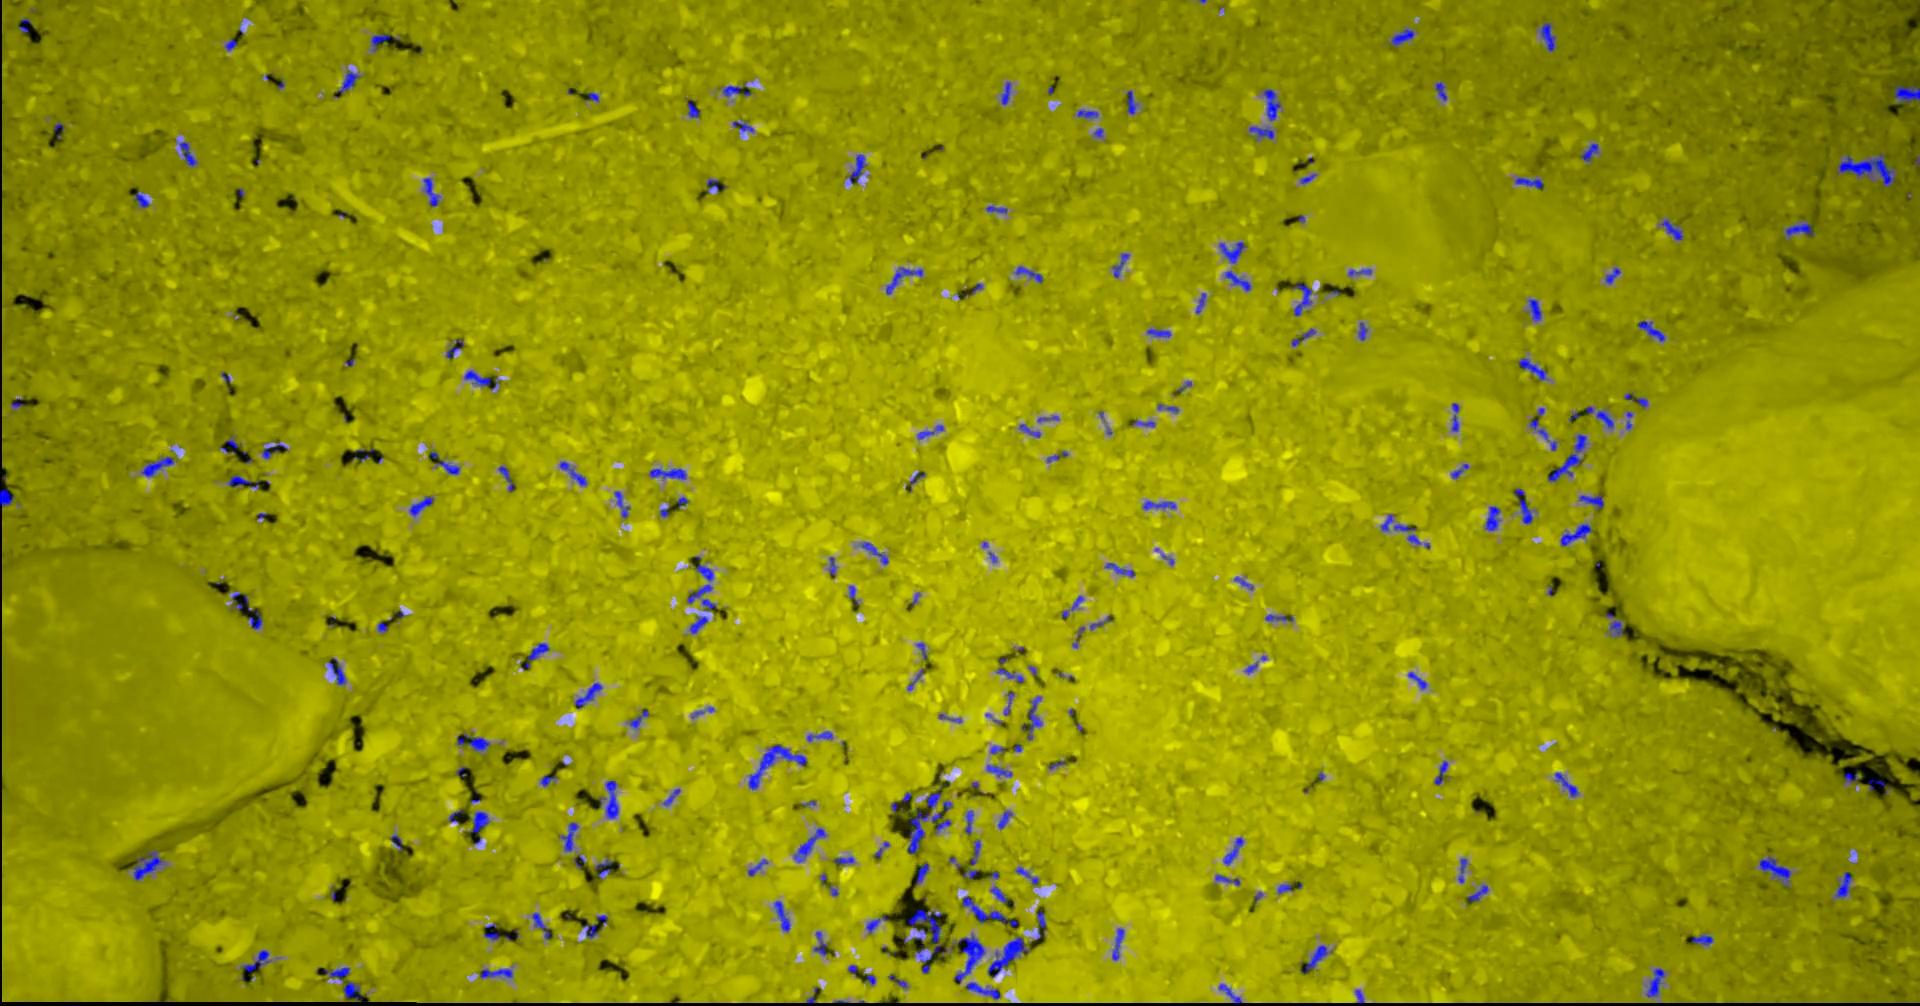ant: (748, 744, 806, 789), (907, 808, 950, 854), (1837, 152, 1895, 187), (1547, 433, 1586, 481), (907, 908, 946, 955), (961, 895, 1017, 926), (987, 936, 1029, 977), (952, 934, 984, 982), (323, 967, 363, 1001), (687, 564, 716, 610), (792, 828, 825, 862), (232, 592, 262, 627), (1759, 855, 1790, 887), (885, 267, 922, 293), (132, 848, 163, 879), (1300, 944, 1331, 973), (1021, 696, 1041, 739), (1393, 523, 1429, 547), (598, 780, 618, 818), (333, 69, 359, 97), (912, 937, 932, 973), (1559, 523, 1592, 545), (522, 641, 549, 668), (996, 657, 1023, 682), (574, 682, 602, 708), (429, 450, 458, 474), (963, 840, 980, 879), (1529, 406, 1549, 441), (240, 949, 270, 972), (463, 370, 499, 389), (140, 456, 173, 476), (1514, 488, 1531, 525), (1291, 281, 1310, 315), (559, 461, 585, 485), (1517, 357, 1545, 380), (860, 541, 888, 564), (926, 780, 949, 808), (965, 981, 1001, 998), (1585, 406, 1613, 428), (1554, 772, 1578, 796), (1218, 241, 1244, 263), (1222, 837, 1243, 864), (1262, 88, 1280, 119), (1637, 320, 1663, 340), (1644, 968, 1663, 996), (370, 33, 399, 51), (848, 154, 866, 183), (1224, 271, 1250, 291), (531, 912, 550, 939), (456, 734, 489, 749), (1218, 983, 1241, 1005), (409, 495, 433, 516), (178, 141, 197, 166), (1539, 22, 1556, 51), (423, 177, 439, 206), (560, 822, 577, 851), (328, 657, 345, 683), (1834, 871, 1851, 898), (1660, 218, 1683, 239), (773, 901, 789, 931), (1015, 265, 1043, 282), (1893, 84, 1919, 102), (262, 441, 287, 459), (497, 465, 513, 492), (1604, 612, 1623, 635), (1015, 866, 1037, 885), (865, 915, 888, 934), (1291, 328, 1316, 345), (723, 81, 750, 97), (229, 474, 259, 488), (1103, 561, 1134, 575), (649, 467, 686, 479), (469, 810, 488, 832), (1784, 224, 1813, 238), (1390, 28, 1413, 46), (1111, 929, 1124, 960), (1112, 253, 1129, 277), (1578, 493, 1603, 509), (1484, 506, 1500, 530), (811, 931, 827, 955), (629, 709, 648, 728), (747, 857, 767, 875), (615, 492, 629, 517), (446, 339, 463, 358), (1407, 671, 1426, 688), (1434, 760, 1448, 784), (1467, 884, 1487, 901), (479, 968, 512, 978), (985, 763, 1011, 776), (1514, 177, 1542, 188), (1624, 392, 1647, 406), (1580, 144, 1597, 161), (690, 615, 707, 633), (662, 788, 679, 805), (596, 859, 612, 878), (1250, 126, 1274, 138), (1528, 298, 1542, 320), (1018, 423, 1040, 437), (1604, 267, 1620, 285), (220, 437, 237, 453), (1142, 500, 1175, 509), (990, 885, 1008, 902), (916, 862, 928, 885), (1215, 874, 1239, 885), (731, 119, 753, 132), (352, 448, 373, 461), (483, 922, 499, 939), (997, 810, 1012, 828), (582, 923, 601, 937), (806, 730, 832, 741), (133, 191, 149, 207), (1450, 464, 1468, 478), (0, 488, 14, 506), (1036, 911, 1045, 939), (706, 179, 725, 192), (1126, 90, 1137, 113), (1195, 292, 1206, 312), (1691, 934, 1712, 945), (1867, 777, 1884, 790), (1457, 857, 1465, 883), (1263, 614, 1293, 621), (1435, 81, 1446, 100), (1145, 328, 1170, 337), (964, 810, 973, 835), (686, 102, 700, 117), (1001, 81, 1010, 104), (1076, 109, 1098, 118), (18, 17, 30, 32), (1451, 401, 1458, 431), (985, 205, 1006, 213), (1357, 323, 1368, 340), (1349, 268, 1371, 276), (1380, 514, 1392, 530), (1843, 771, 1858, 782), (540, 775, 555, 786), (53, 122, 63, 138), (832, 856, 853, 864)
